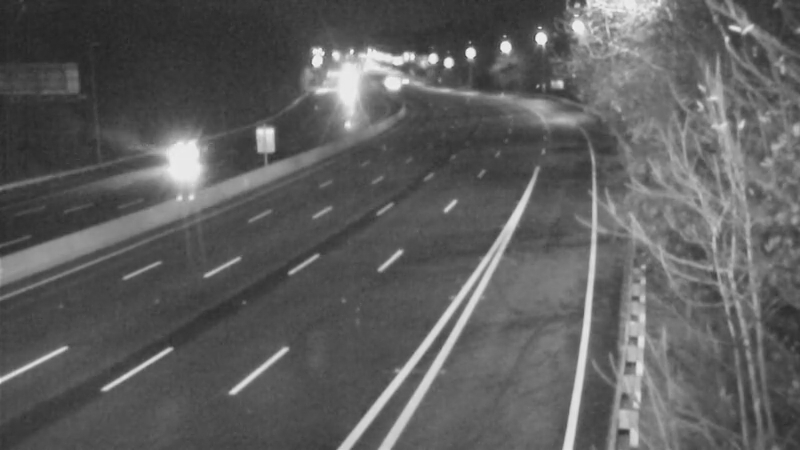vehicle: (140, 115, 220, 195)
